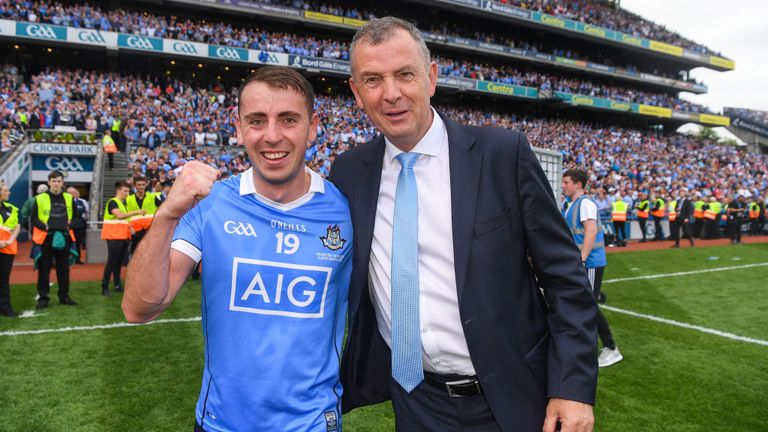player: (344, 10, 601, 404), (158, 65, 352, 429)
